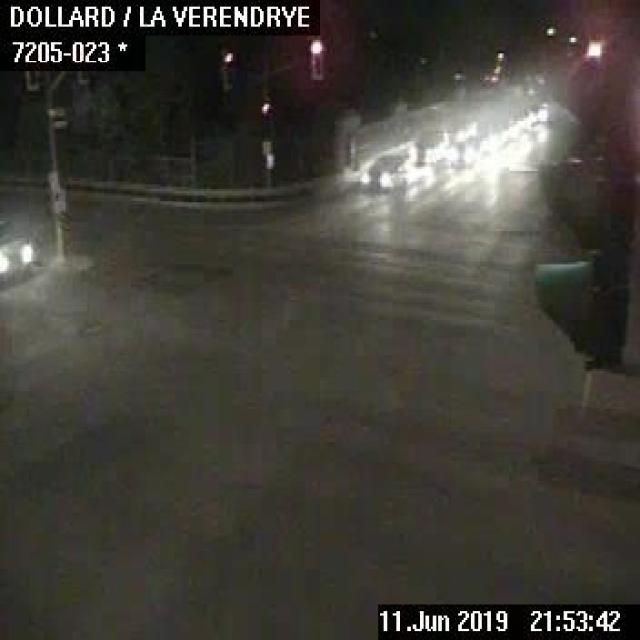vehicle: (0, 209, 38, 275), (358, 152, 410, 191), (406, 123, 449, 165), (444, 138, 483, 166), (521, 101, 550, 127)
